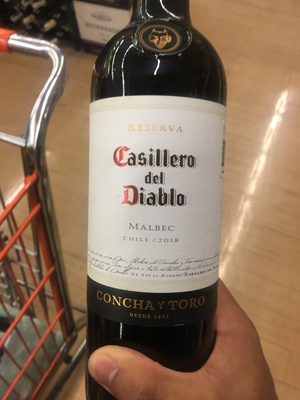casillero del diablo malbec: (83, 27, 233, 393)
